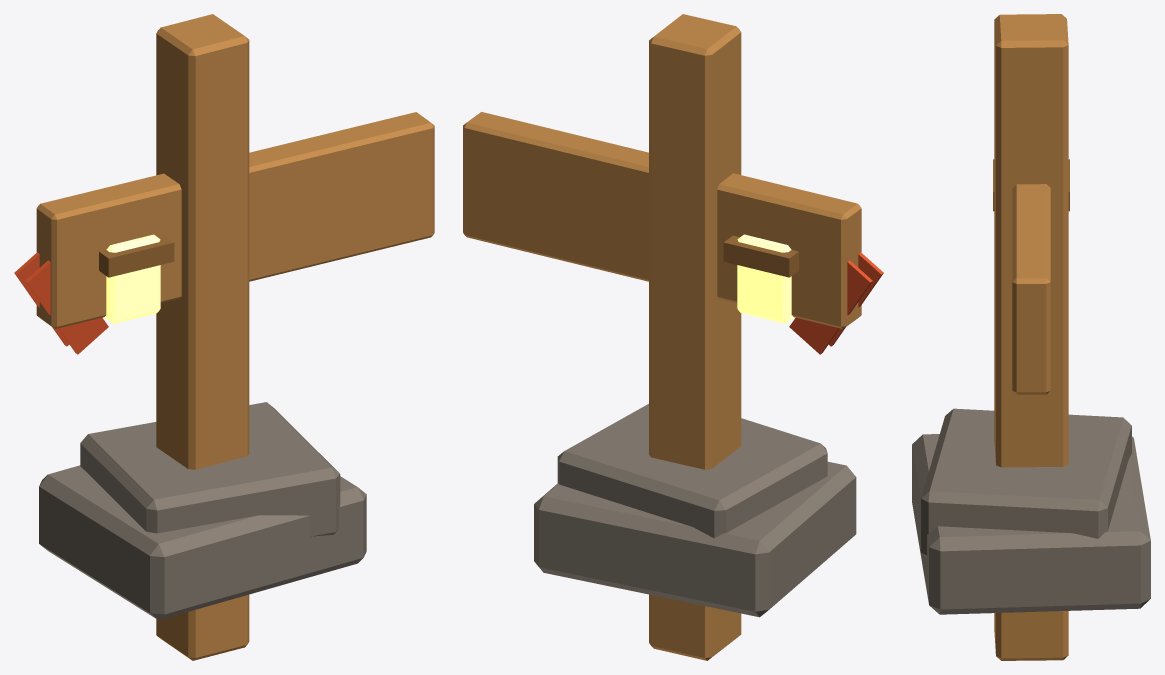
Rendered from bl_turnsign.gltf.
3 renders of one model, left to right at view 1: azimuth 30°, elevation 25°; view 2: azimuth 150°, elevation 25°; view 3: azimuth 270°, elevation 25°, orthographic.
Parts seen in each view (by area): view 1: Post, ArrowPlank, Base1, Base2, Lantern, LanternCap, Chev-1_0, Chev1_0; view 2: Post, ArrowPlank, Base1, Base2, Lantern, LanternCap, Chev1_0, Chev-1_0; view 3: Post, Base1, Base2, ArrowPlank.
Part boxes in pixels (x1,y1,x2,y2): Post: [156, 14, 249, 660]; ArrowPlank: [36, 112, 434, 328]; Base1: [39, 465, 366, 620]; Base2: [80, 402, 340, 536]; Lantern: [104, 234, 160, 323]; LanternCap: [99, 235, 174, 277]; Chev-1_0: [25, 260, 108, 354]; Chev1_0: [14, 252, 69, 346]; Post: [649, 14, 741, 660]; ArrowPlank: [463, 112, 861, 328]; Base1: [534, 461, 856, 617]; Base2: [557, 404, 827, 538]; Lantern: [737, 234, 793, 323]; LanternCap: [723, 235, 798, 277]; Chev1_0: [789, 260, 872, 354]; Chev-1_0: [828, 252, 883, 346]; Post: [994, 14, 1068, 660]; Base1: [912, 434, 1150, 614]; Base2: [921, 408, 1131, 557]; ArrowPlank: [1012, 184, 1050, 394].
Bounding box in the file's own units: 2.23 × 3.2 × 1.12.
